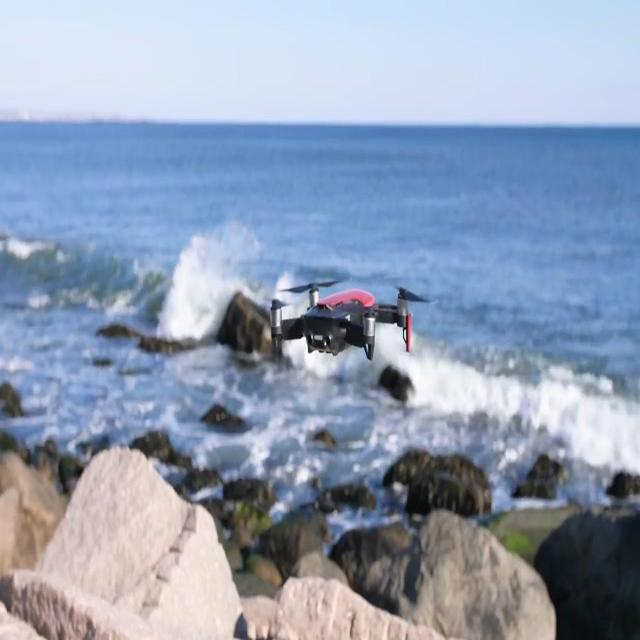drone: (267, 273, 436, 361)
